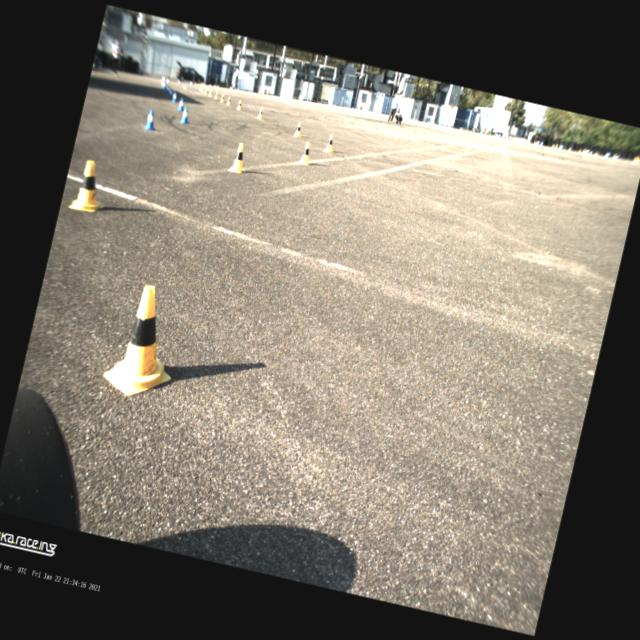blue_cone: (143, 108, 159, 132), (180, 106, 192, 124), (177, 97, 185, 111), (170, 91, 178, 103)
yellow_cone: (98, 279, 188, 404), (67, 158, 108, 214), (228, 141, 250, 174), (297, 140, 313, 166), (322, 132, 336, 154), (293, 121, 303, 138), (256, 106, 263, 120), (235, 99, 242, 110), (226, 96, 232, 106), (220, 94, 224, 102)
